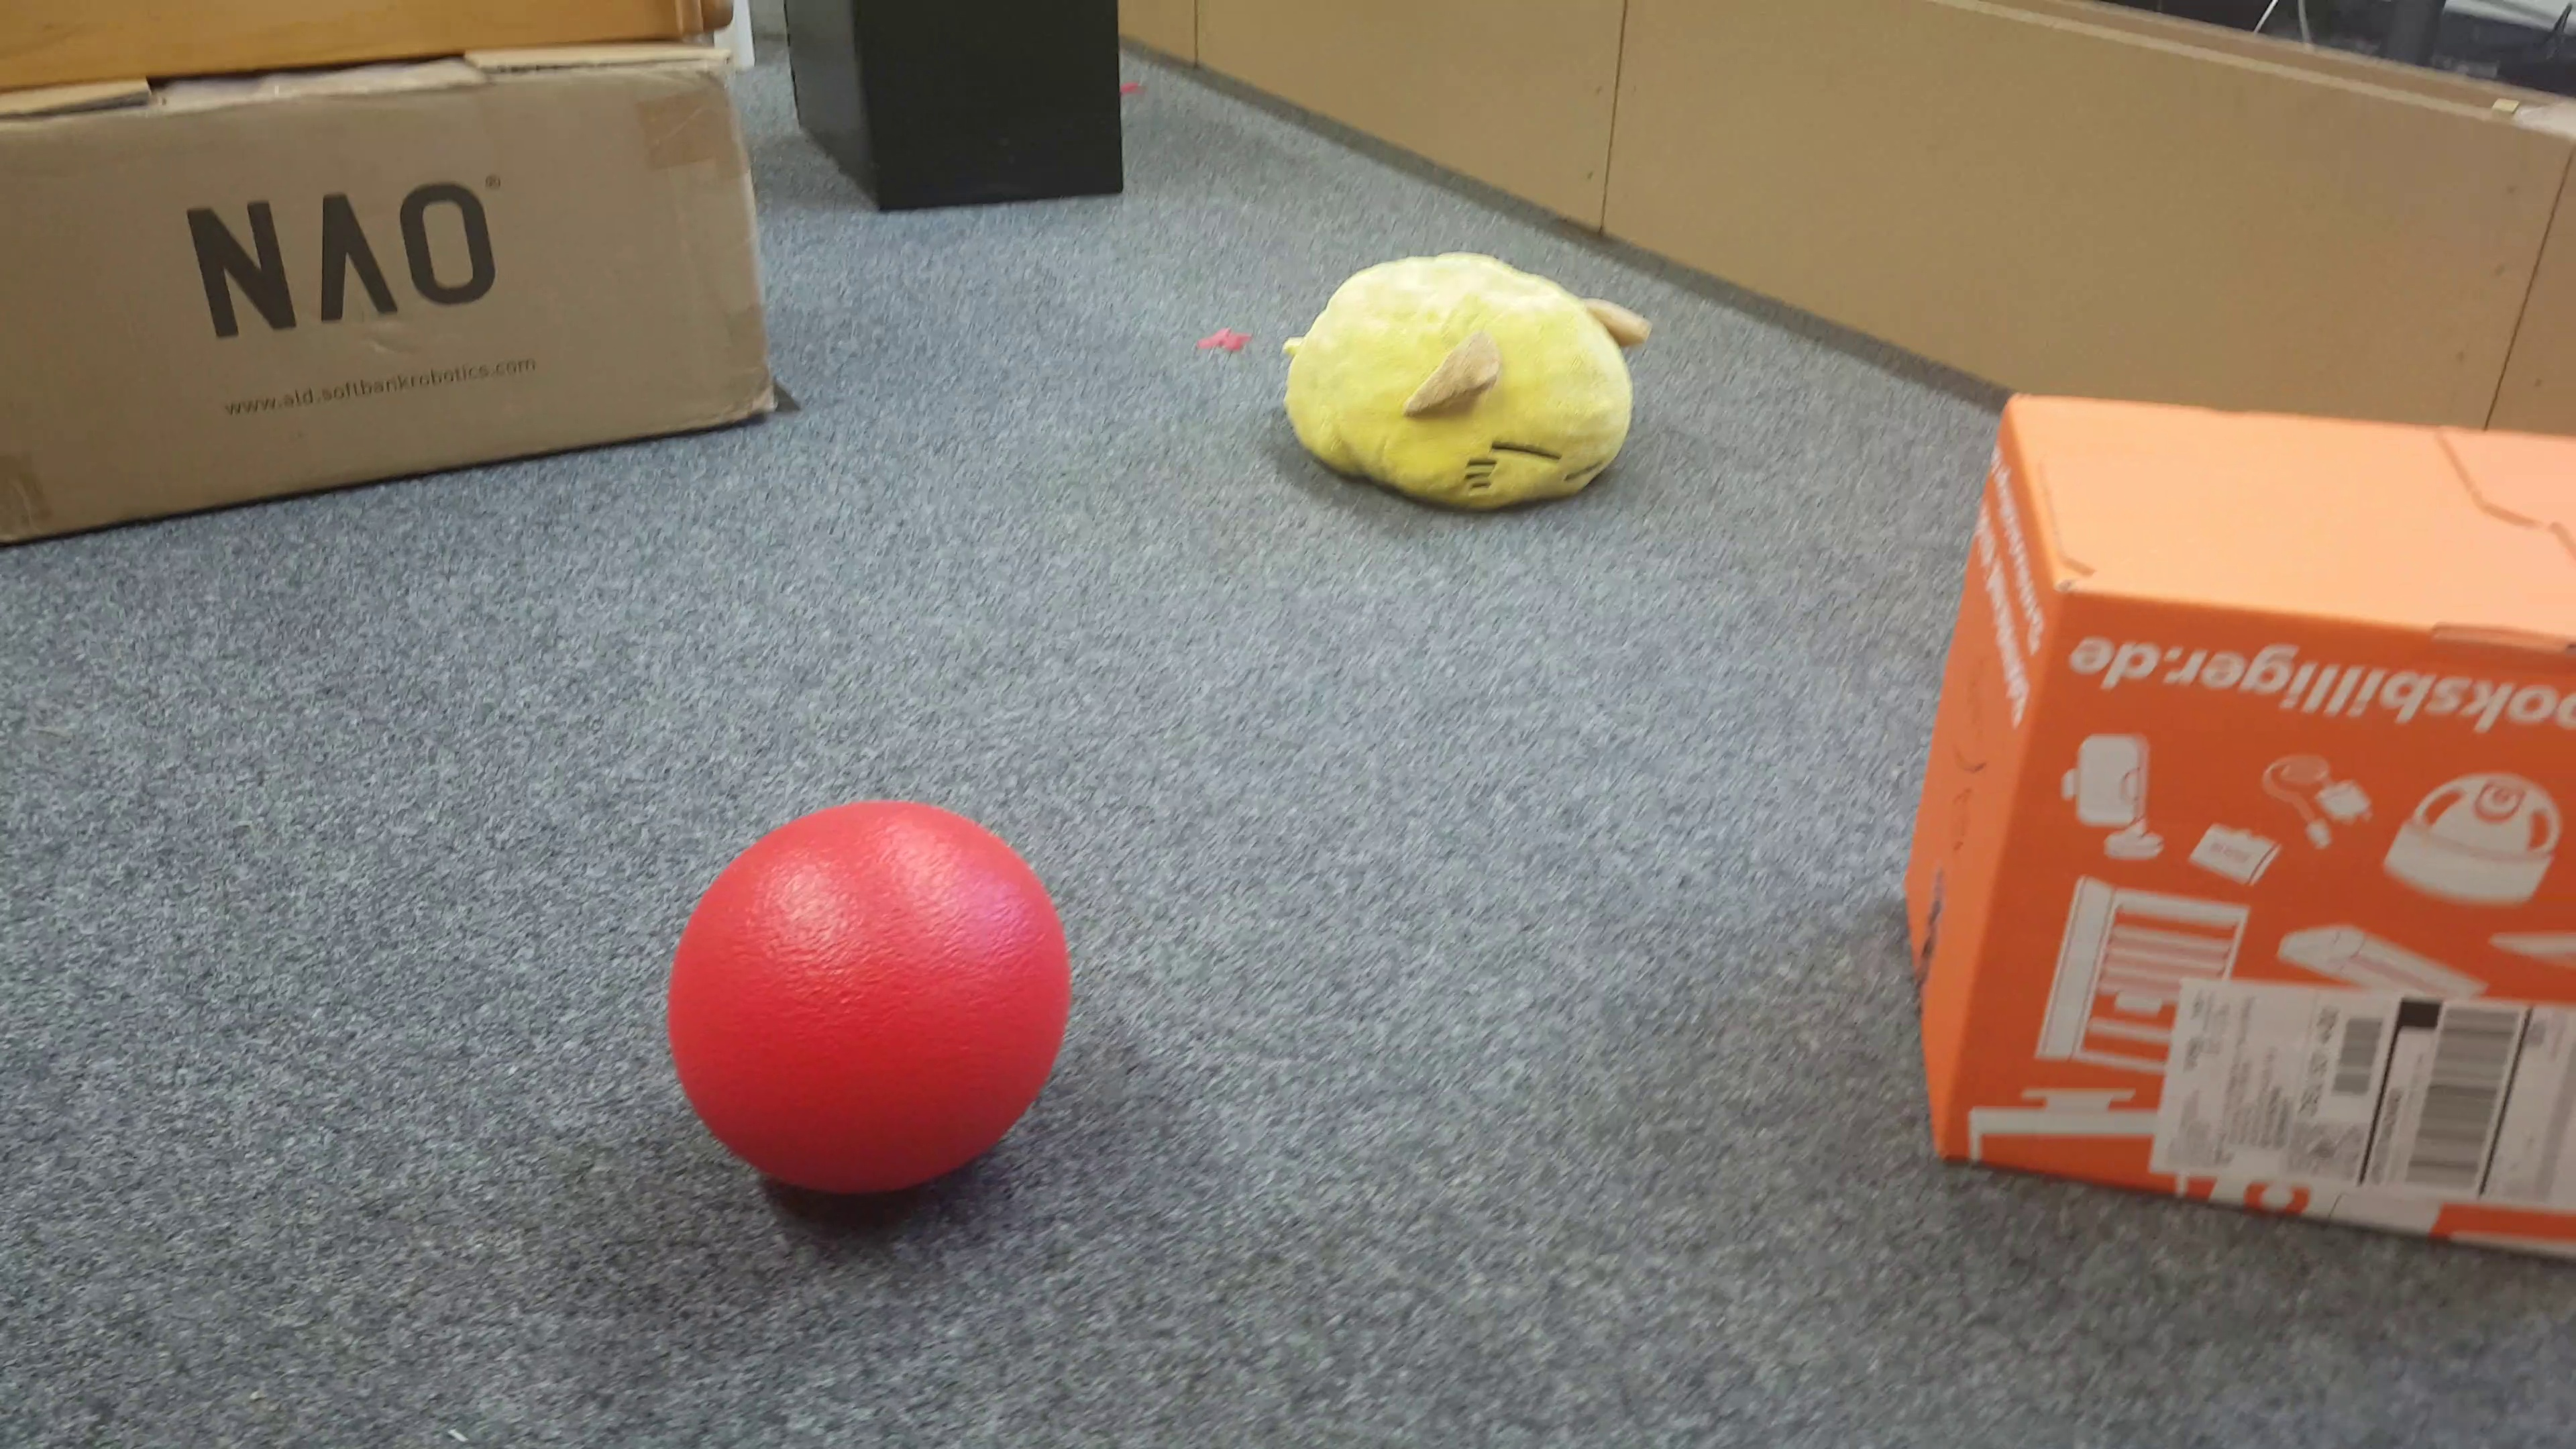grasp: (1270, 251, 1635, 524)
kick: (669, 807, 1074, 1192)
push: (1898, 393, 2576, 1281), (784, 4, 1125, 216)
